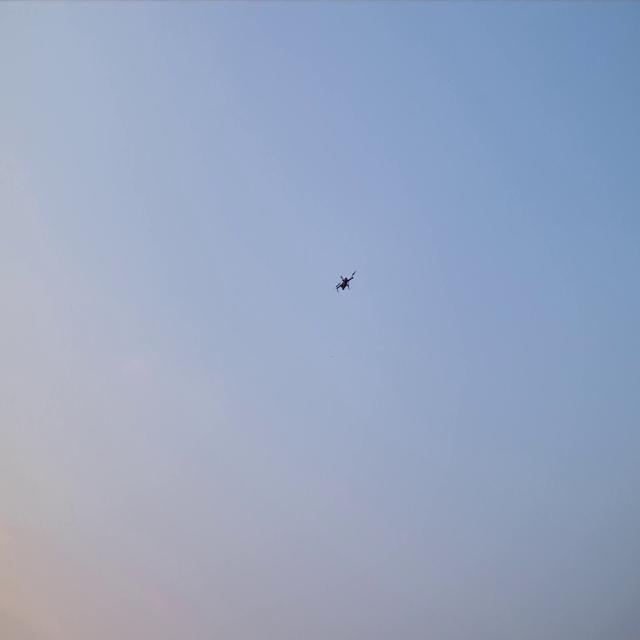UAV: (336, 274, 354, 290)
